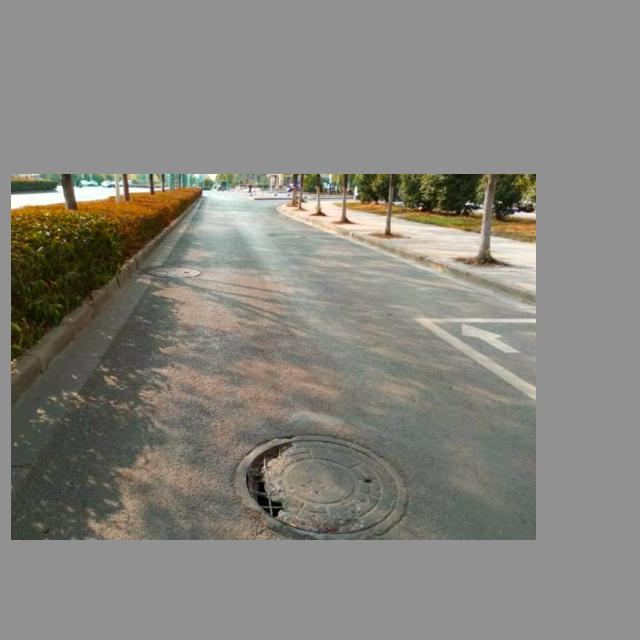broke: (235, 432, 409, 540)
